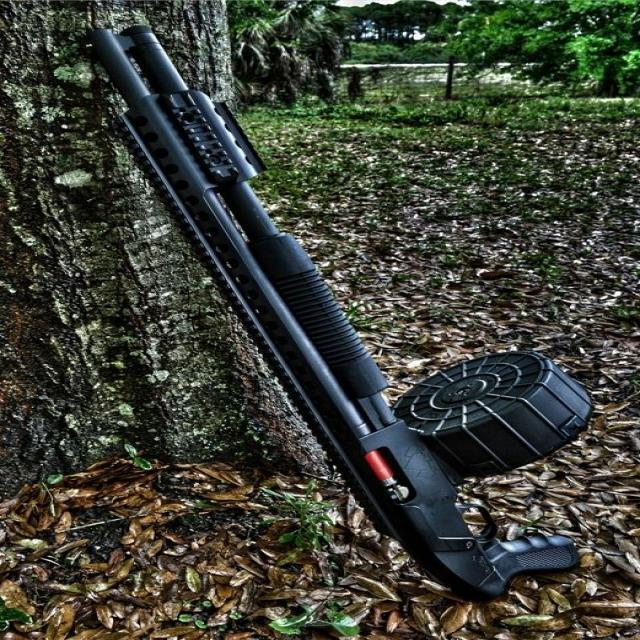shotgun: (26, 0, 640, 590)
